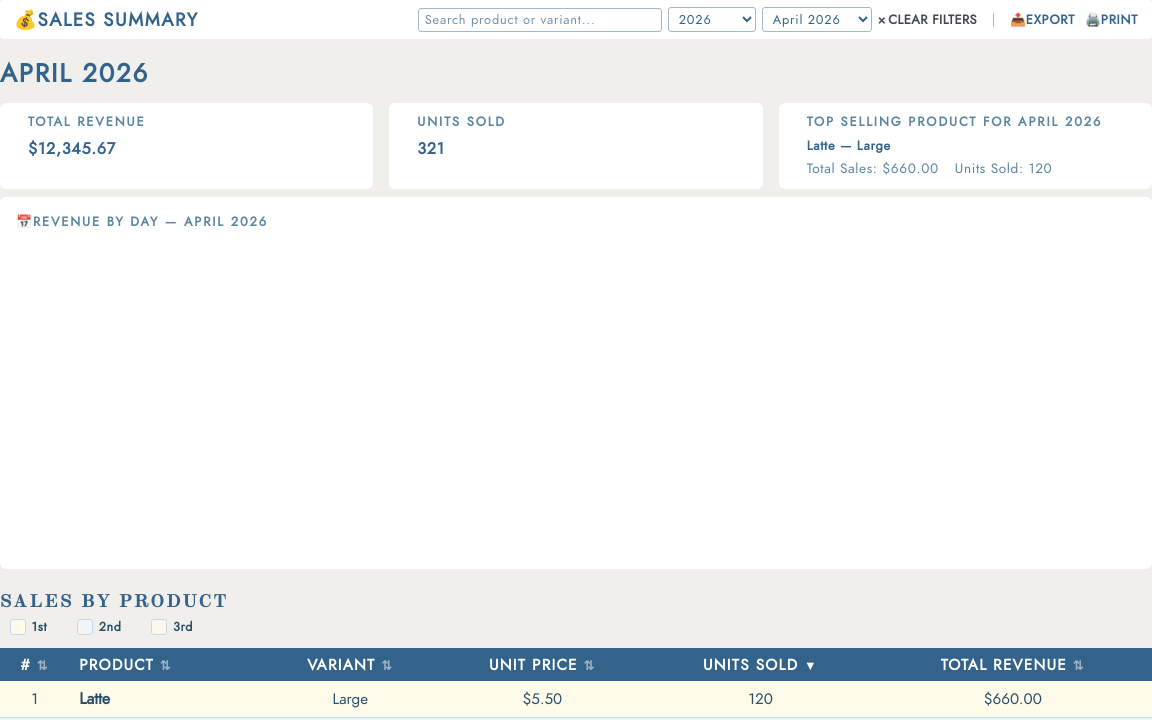
it: US5.4 Sales Summary Dashboard › clear filters resets search and month
Check: the text "$12,345.67" is shown, box top-left (28, 138), bottom-right (116, 160)
In the field with placeholder "Search product or variant...": (540, 20) top-left (418, 8), bottom-right (662, 32), type "latte"
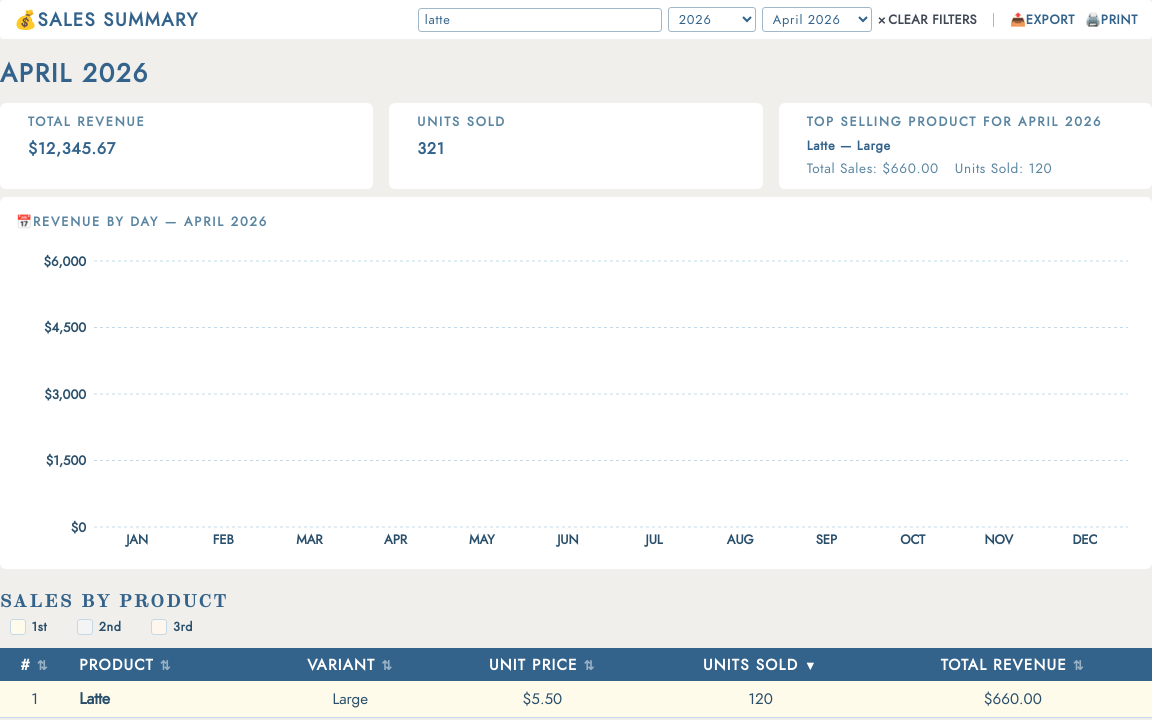
Click the button "× CLEAR FILTERS": (927, 20) top-left (878, 10), bottom-right (977, 28)
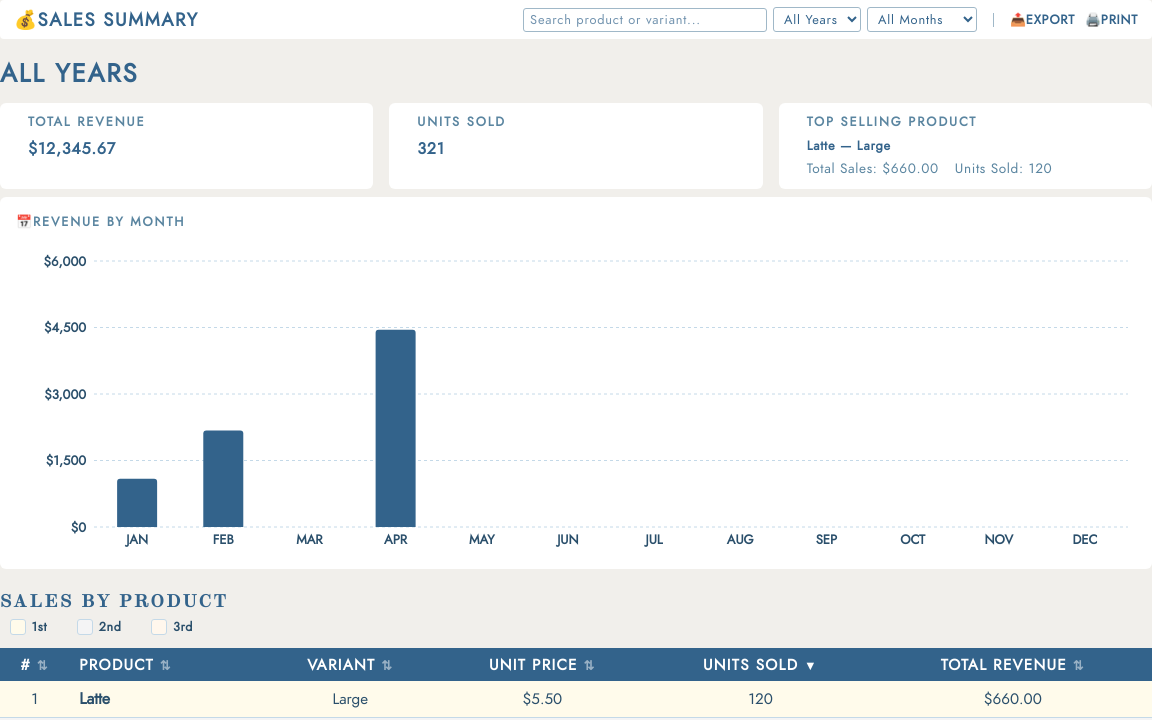
Check: the field with placeholder "Search product or variant..." is empty, box top-left (523, 8), bottom-right (767, 32)
Check: the 2nd dropdown shows "All Months", box top-left (867, 7), bottom-right (977, 32)
